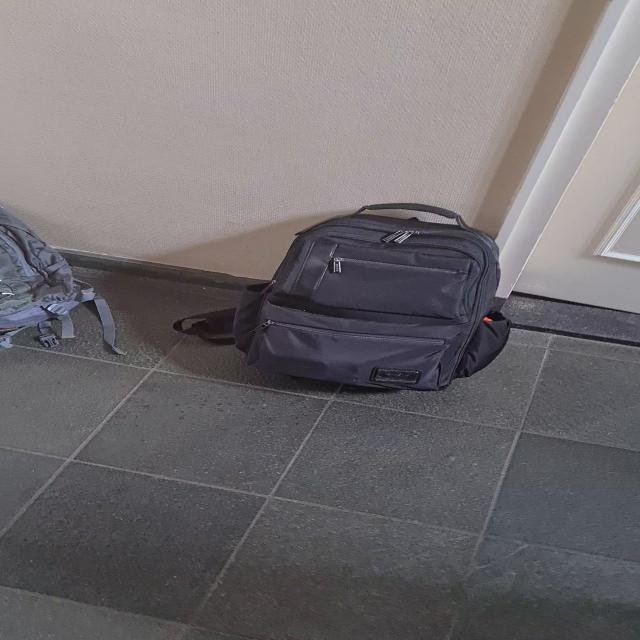backpack: (234, 201, 523, 403), (0, 202, 129, 350)
